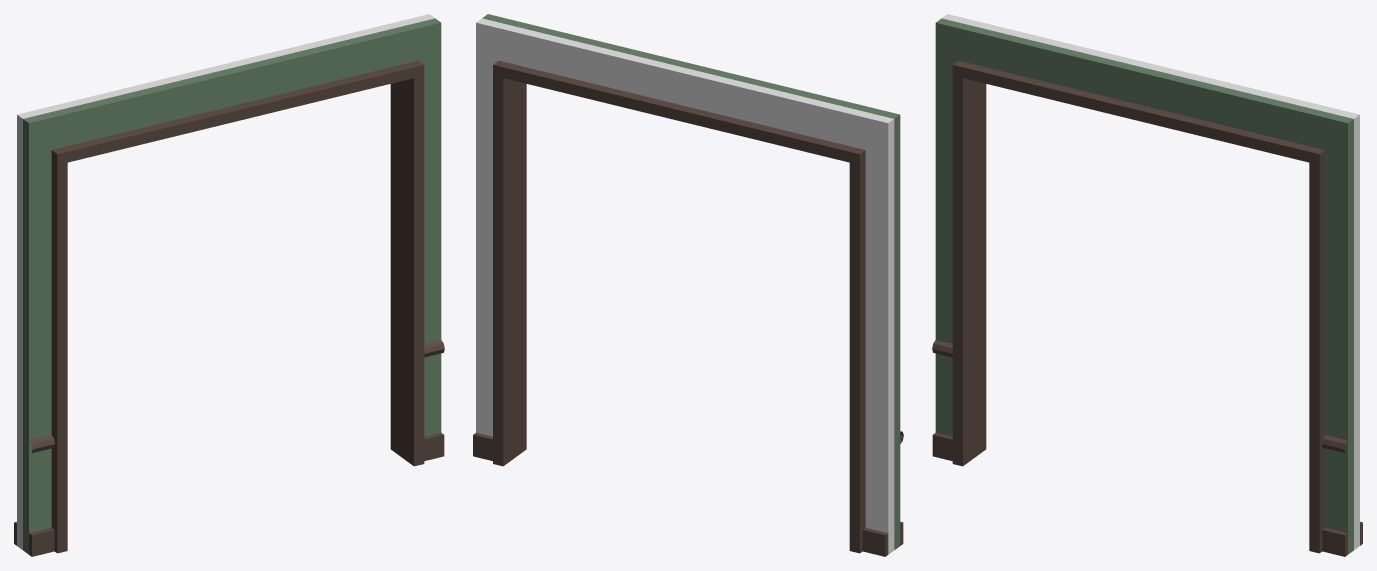
Rendered from h_wall_3_doorFrame_4_2_multi.fbx.
3 renders of one model, left to right at view 1: azimuth 30°, elevation 25°; view 2: azimuth 150°, elevation 25°; view 3: azimuth 330°, elevation 25°, orthographic.
Visible parts, largest first — view 1: Cube; view 2: Cube; view 3: Cube.
Part boxes in pixels (box(x1,y1,x2,y2)): Cube: box(14, 14, 444, 556); Cube: box(473, 14, 903, 556); Cube: box(932, 14, 1362, 556).
Bounding box in the file's own units: 400 × 400 × 39.37.
